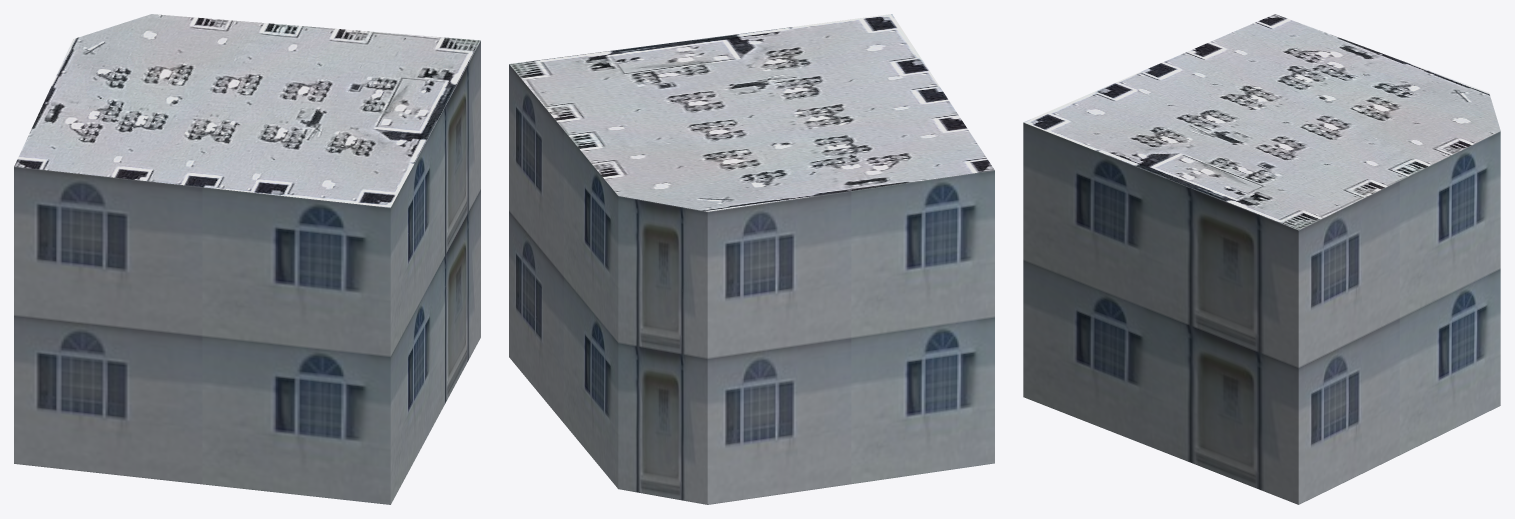
The model's file is ResTex__2893.fbx.
3 renders of one model, left to right at view 1: azimuth 30°, elevation 25°; view 2: azimuth 150°, elevation 25°; view 3: azimuth 270°, elevation 25°, orthographic. The views are drawn at different scales.
Parts seen in each view (by area): view 1: CityEngineMaterial_17_m, CityEngineMaterial_4_m; view 2: CityEngineMaterial_17_m, CityEngineMaterial_4_m; view 3: CityEngineMaterial_17_m, CityEngineMaterial_4_m.
Part boxes in pixels (box(x1,y1,x2,y2)): CityEngineMaterial_17_m: box(14, 41, 480, 504); CityEngineMaterial_4_m: box(14, 14, 480, 207); CityEngineMaterial_17_m: box(509, 64, 994, 504); CityEngineMaterial_4_m: box(509, 14, 994, 211); CityEngineMaterial_17_m: box(1023, 122, 1500, 504); CityEngineMaterial_4_m: box(1023, 14, 1500, 230).
Size of the model in its own units: 10.13 by 6 by 9.46.
2 materials, 2 textured.
